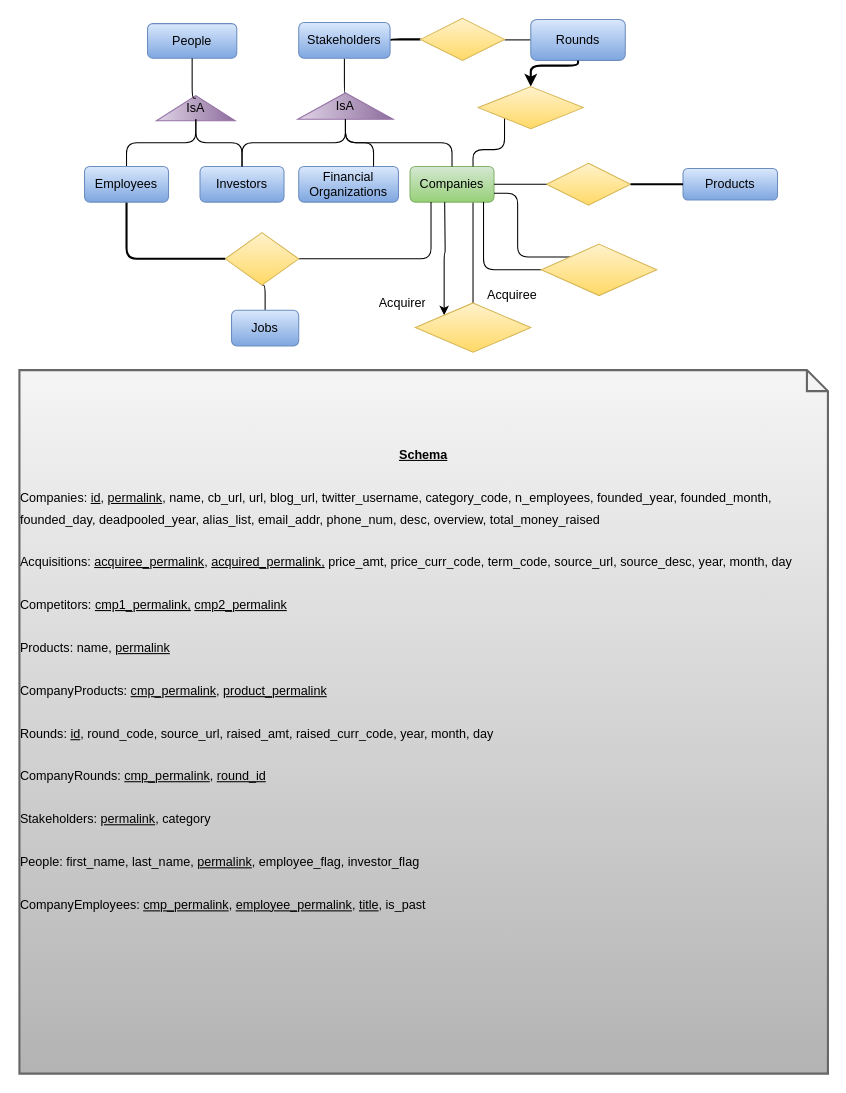
This 846x1093 diagram has some shape labels left out. The shapes that lost their labels are listed below. From the top down, each one's centre as x and y in pixels, then its label:
(x=462, y=38): Invest in
(x=530, y=107): Participate in
(x=588, y=183): Makes
(x=261, y=258): Has Worked At
(x=598, y=269): Competes with
(x=472, y=327): Is Acquired By
